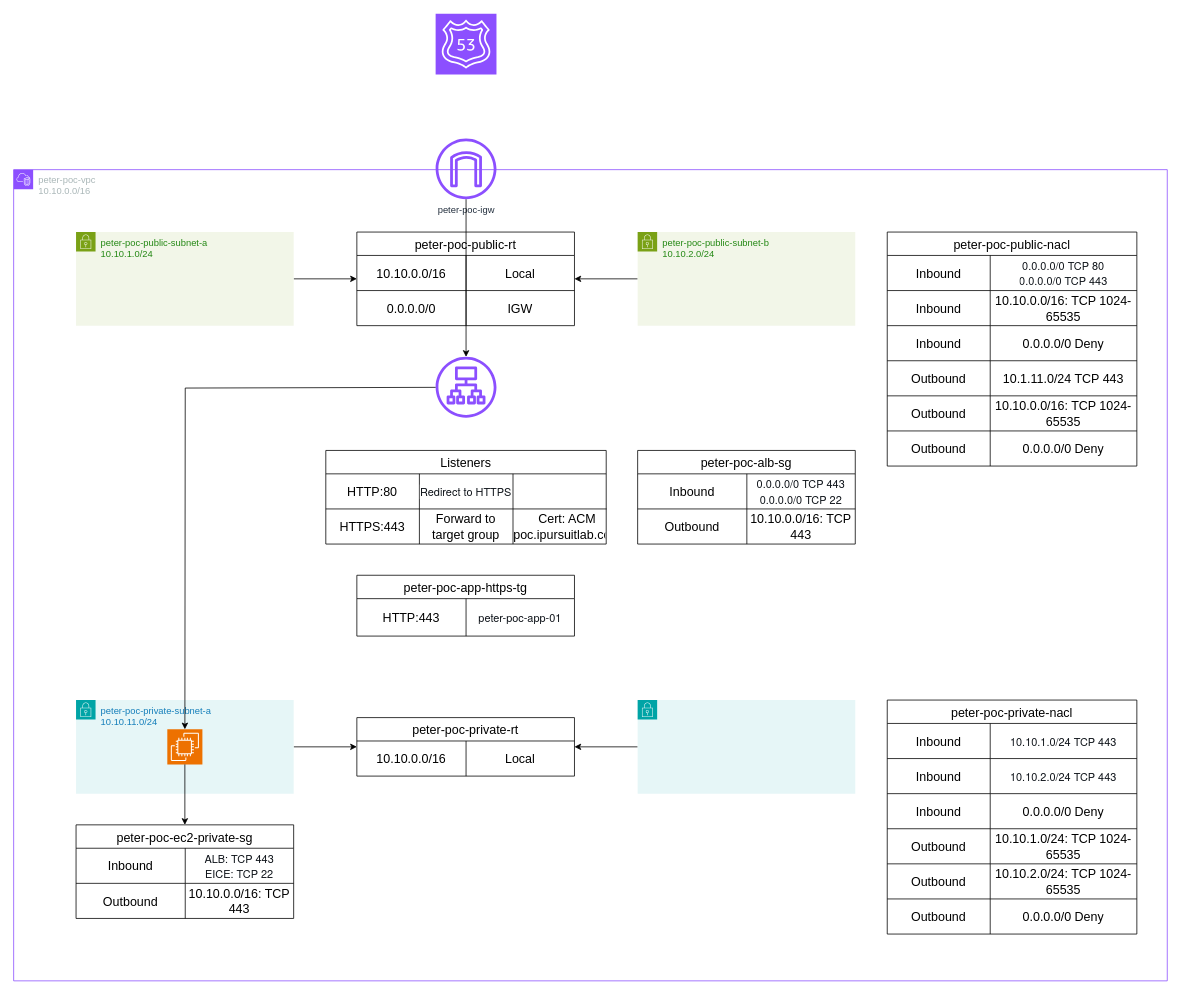
Image size: 1181x994. Some labels were removed from this diagram. The shapes that lost their labels are listed below. From the top down, each one's centre as x and y in pixels, then its label:
the point at 465,43: https://poc.****.com/ peter-poc-alb-1920383603.ap-southeast-1.elb.amazonaws.com.
the point at 465,386: peter-poc-alb
the point at 184,746: peter-poc-app-01 Linux
the point at 746,746: peter-poc-private-subnet-b 10.10.12.0/24
